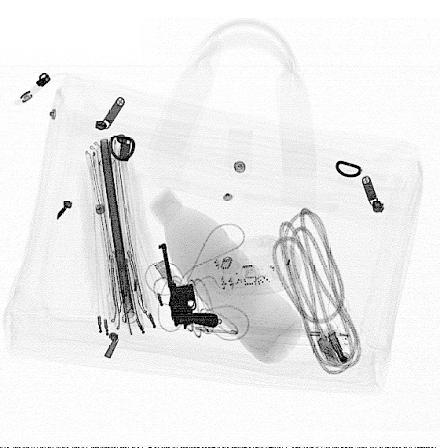Gun: (158, 242, 218, 330)
